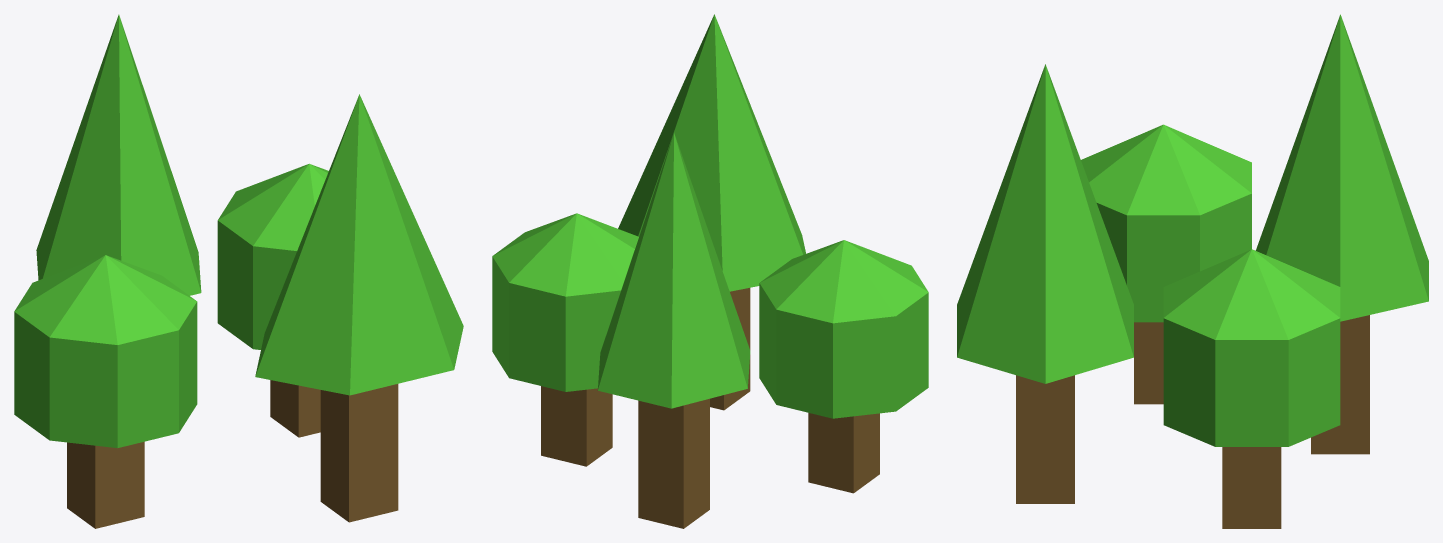
The model's file is forest.obj.
The picture shows the model from 3 angles, left to right: view 1: azimuth 30°, elevation 25°; view 2: azimuth 150°, elevation 25°; view 3: azimuth 270°, elevation 25°; orthographic projection. The views are drawn at different scales.
Visible parts, largest first — view 1: cone, cylinder, cuboid; view 2: cylinder, cone, cuboid; view 3: cone, cylinder, cuboid.
Boxes of the visible parts, x1,y1,x2,y2 form: cone: [36, 14, 463, 395]; cylinder: [14, 163, 328, 448]; cuboid: [67, 380, 398, 528]; cylinder: [492, 213, 928, 418]; cone: [597, 14, 805, 408]; cuboid: [541, 288, 879, 528]; cone: [957, 14, 1428, 383]; cylinder: [1081, 124, 1340, 446]; cuboid: [1016, 315, 1369, 528].
Bounding box in the file's own units: 1 × 1 × 1.
1 material, 1 textured.
